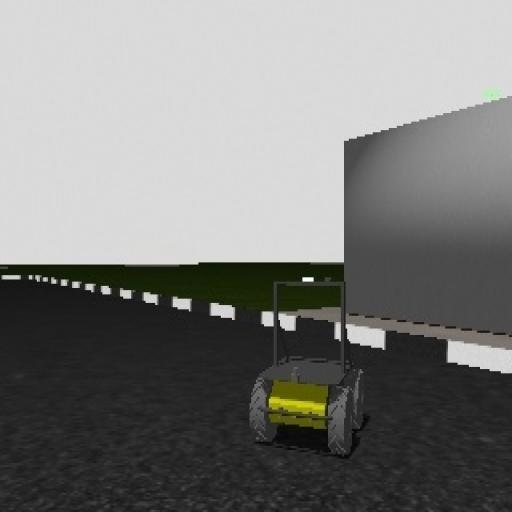huskya200: (242, 273, 380, 450)
